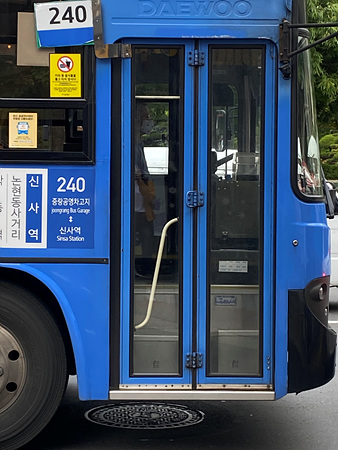entrance: (127, 43, 268, 389)
